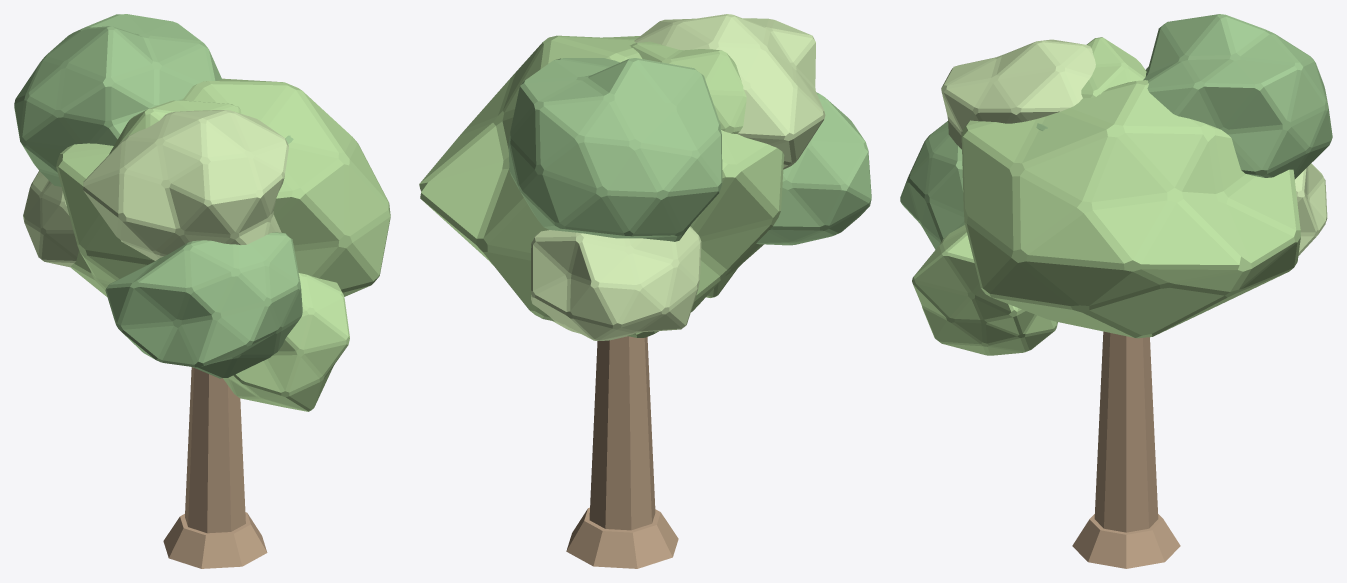
File: Veg_Tree_Small.fbx
3 renders of one model, left to right at view 1: azimuth 30°, elevation 25°; view 2: azimuth 150°, elevation 25°; view 3: azimuth 270°, elevation 25°, orthographic. The views are drawn at different scales.
Visible parts, largest first — view 1: Veg_Tree_Small_Veg, Veg_Tree_Small; view 2: Veg_Tree_Small_Veg, Veg_Tree_Small; view 3: Veg_Tree_Small_Veg, Veg_Tree_Small.
Boxes of the visible parts, x1,y1,x2,y2 form: Veg_Tree_Small_Veg: (14,14,390,411); Veg_Tree_Small: (163,367,267,568); Veg_Tree_Small_Veg: (419,14,871,340); Veg_Tree_Small: (566,336,678,568); Veg_Tree_Small_Veg: (900,14,1332,355); Veg_Tree_Small: (1072,331,1180,568).
Size of the model in its own units: 1.46 by 2.25 by 1.75.
